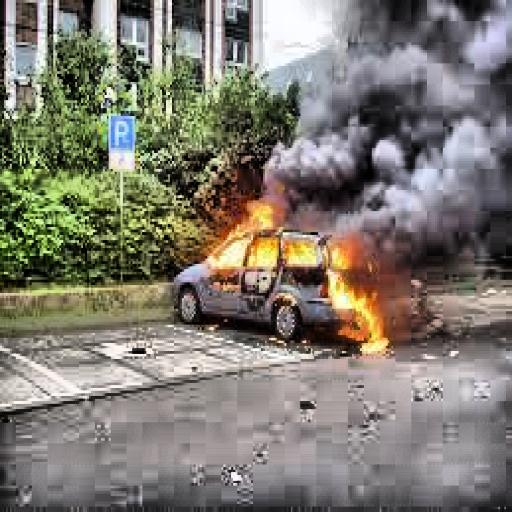fire: (304, 222, 402, 362), (204, 182, 296, 275)
